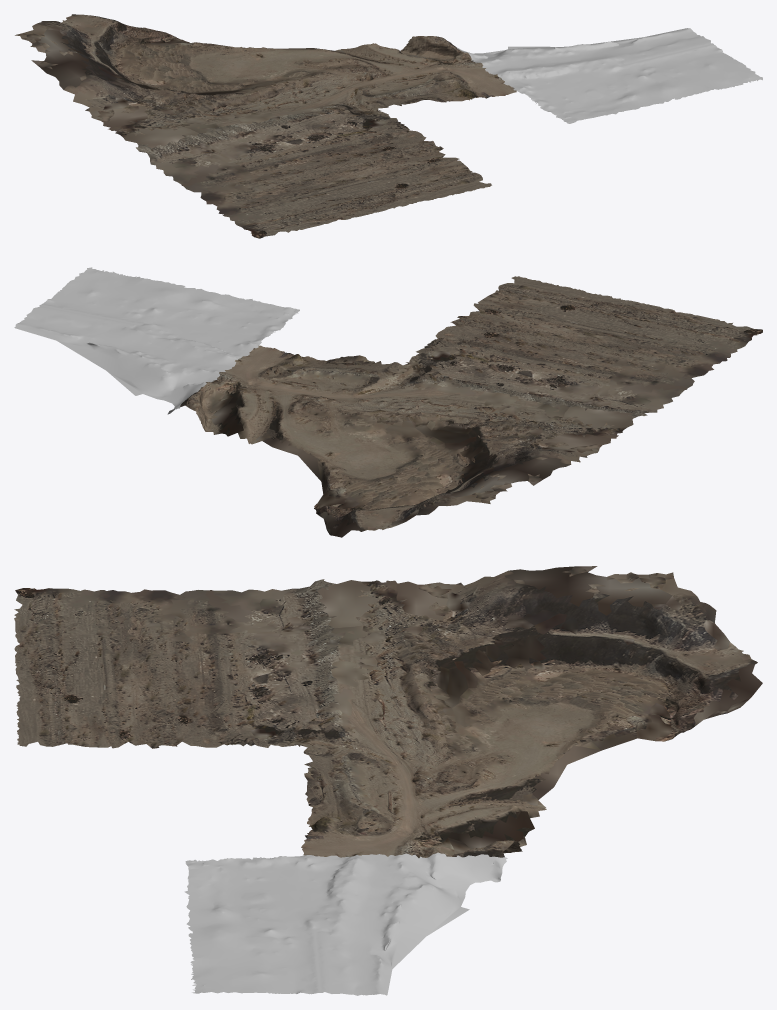
The model's file is MOD_domainSurroundings_upperGround.fbx.
3 views of the same model, one above another, from view 1: azimuth 30°, elevation 25°; view 2: azimuth 150°, elevation 25°; view 3: azimuth 270°, elevation 25° (orthographic). The views are drawn at different scales.
Parts seen in each view (by area): view 1: MOD_domainSurroundings_upperGround; view 2: MOD_domainSurroundings_upperGround; view 3: MOD_domainSurroundings_upperGround.
Boxes of the visible parts, x1,y1,x2,y2 form: MOD_domainSurroundings_upperGround: (15,14,762,238); MOD_domainSurroundings_upperGround: (14,267,762,537); MOD_domainSurroundings_upperGround: (14,566,762,995).
Bounding box in the file's own units: 47521 × 4406 × 40767.
